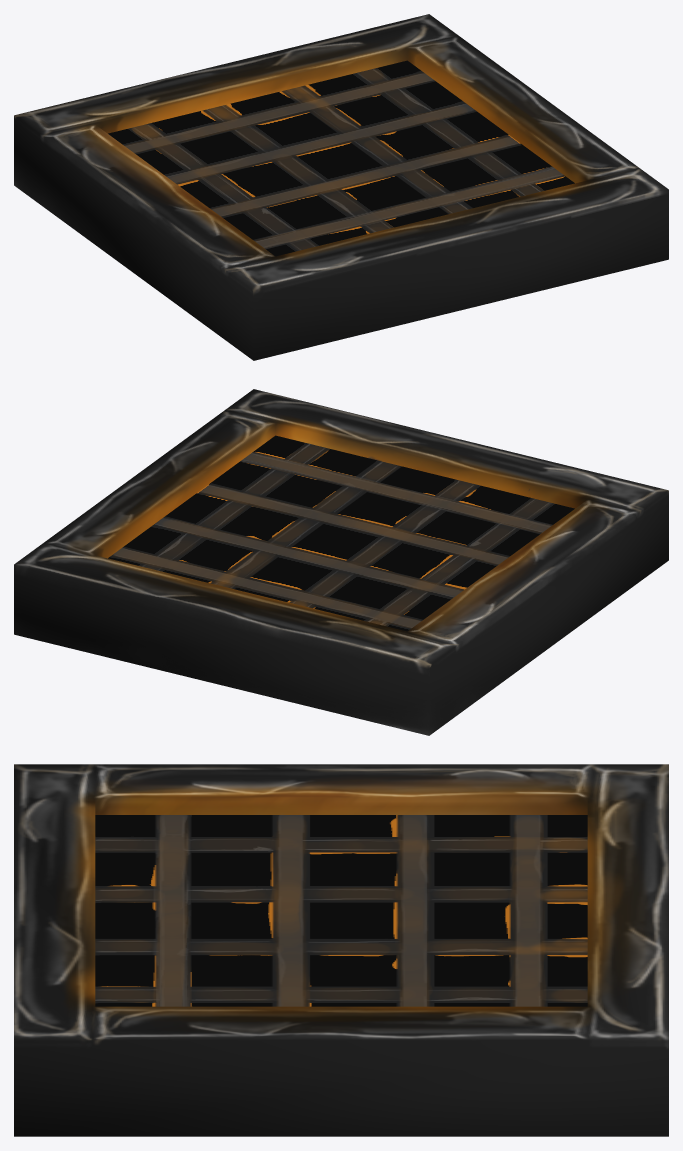
File: Floor_005_lava_003.fbx
The picture shows the model from 3 angles, top to bottom: view 1: azimuth 30°, elevation 25°; view 2: azimuth 150°, elevation 25°; view 3: azimuth 270°, elevation 25°; orthographic projection. The views are drawn at different scales.
Parts seen in each view (by area): view 1: default; view 2: default; view 3: default.
Boxes of the visible parts, box(x1,y1,x2,y2) form: default: box(14, 14, 668, 360); default: box(14, 389, 668, 735); default: box(14, 764, 668, 1136).
Bounding box in the file's own units: 100 × 16.13 × 100.
